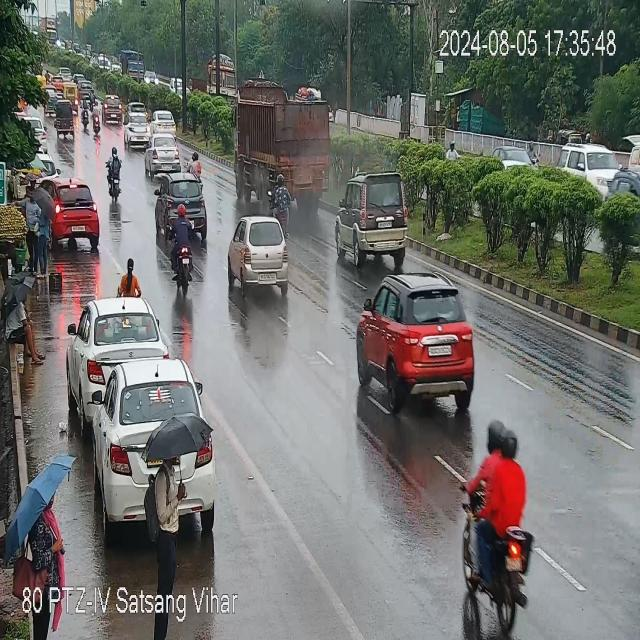2-wheelers: (472, 424, 531, 566), (171, 207, 201, 288), (107, 150, 128, 203), (79, 95, 97, 135), (89, 102, 105, 138), (524, 140, 544, 166)
auto: (55, 97, 80, 139)
car: (82, 361, 208, 539), (347, 272, 481, 406), (70, 299, 164, 398), (342, 176, 409, 262), (228, 217, 298, 291), (154, 177, 215, 234), (51, 180, 102, 244), (559, 140, 618, 192), (142, 136, 183, 175), (487, 144, 533, 172), (123, 121, 160, 149), (147, 108, 181, 133), (102, 94, 127, 124)
pedestrian: (146, 444, 189, 584), (17, 497, 62, 590), (6, 284, 46, 361), (24, 185, 50, 274), (118, 258, 141, 298)
truck: (234, 101, 337, 205), (188, 56, 239, 102), (119, 48, 144, 82)
